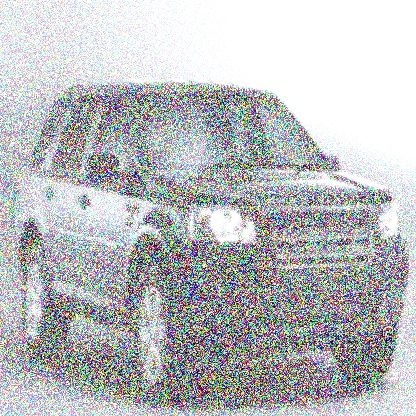Vehicle: (15, 75, 412, 401)
